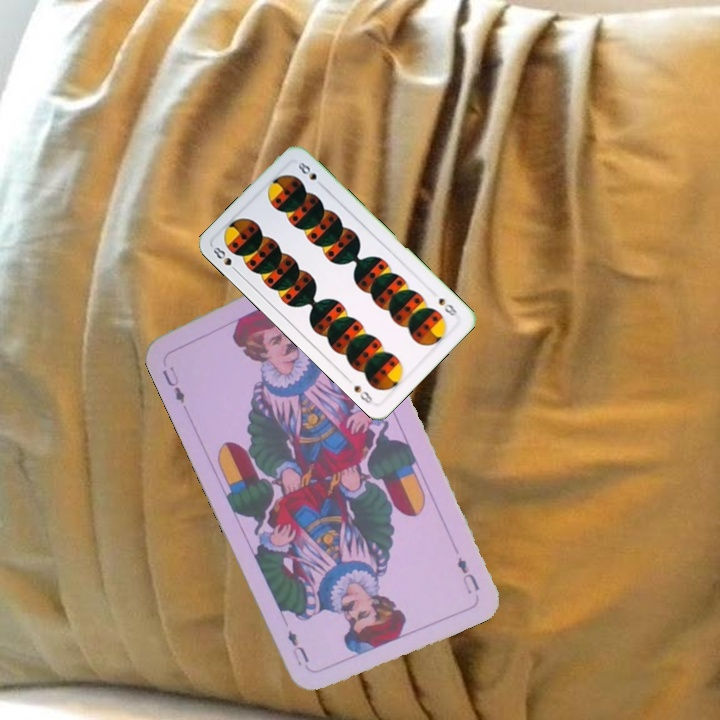EU: (158, 362, 188, 407), (453, 553, 482, 597)
S8: (209, 242, 241, 276), (434, 294, 460, 320)
